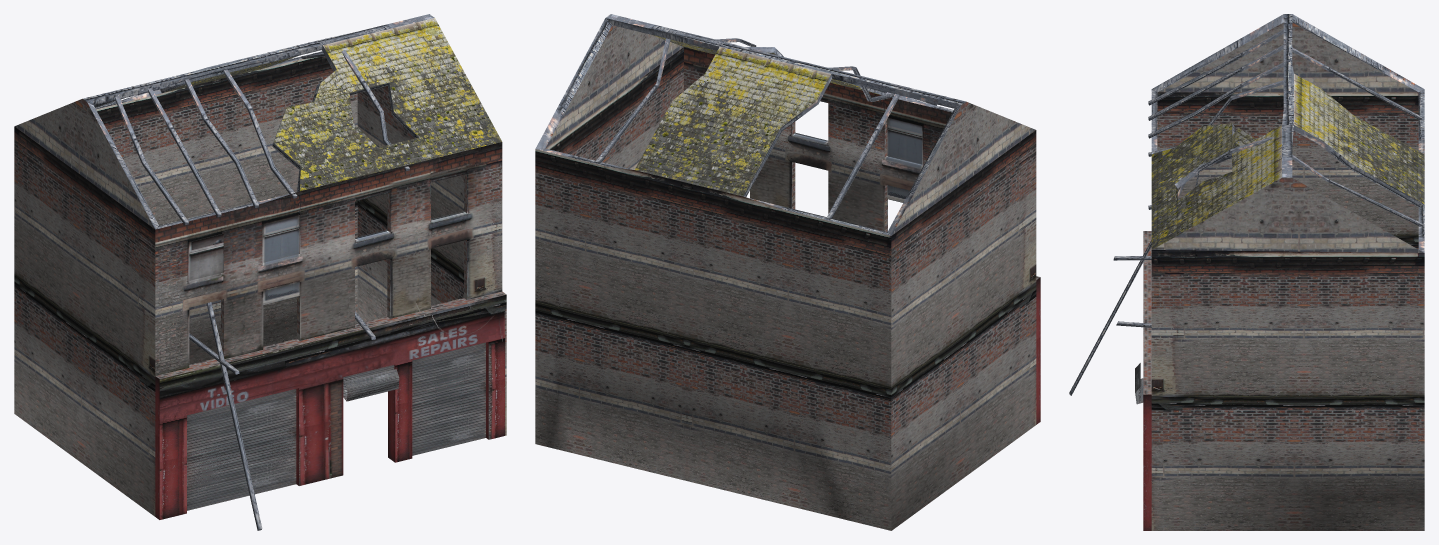
Rendered from building12.obj.
The picture shows the model from 3 angles, left to right: view 1: azimuth 30°, elevation 25°; view 2: azimuth 150°, elevation 25°; view 3: azimuth 270°, elevation 25°; orthographic projection. The views are drawn at different scales.
Visible parts, largest first — view 1: material31; view 2: material31; view 3: material31.
Part boxes in pixels (x1,y1,x2,y2): material31: (14, 14, 506, 530); material31: (535, 14, 1040, 530); material31: (1069, 14, 1424, 530).
Size of the model in its own units: 326 by 327 by 298.
1 material, 1 textured.
